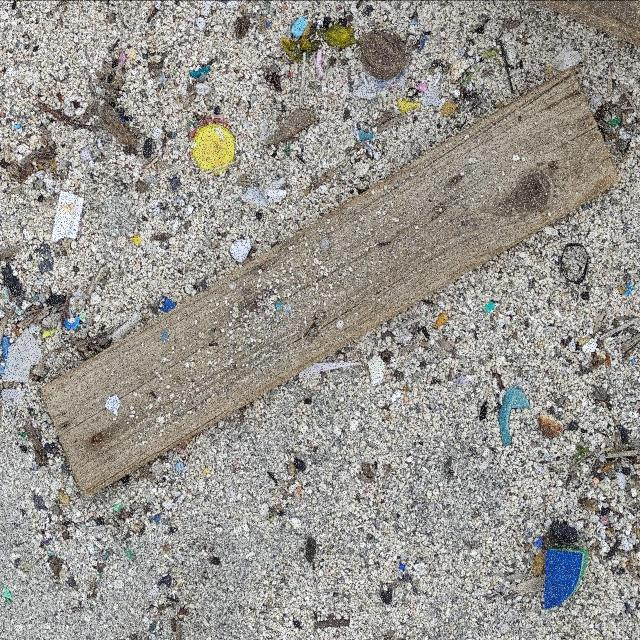plastic_waste: (195, 124, 238, 173)
wood_waste: (40, 65, 621, 501)
